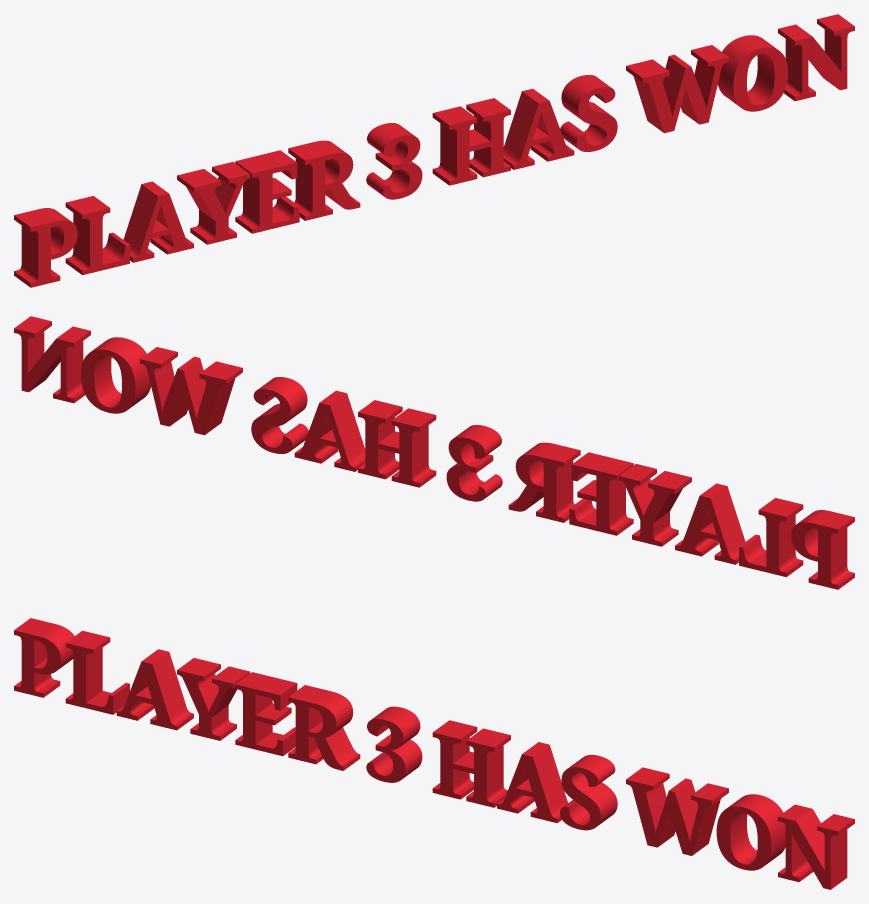
File: tinkerRed.obj
3 renders of one model, top to bottom at view 1: azimuth 30°, elevation 25°; view 2: azimuth 150°, elevation 25°; view 3: azimuth 330°, elevation 25°, orthographic.
Visible parts, largest first — view 1: obj_0; view 2: obj_0; view 3: obj_0.
Part boxes in pixels (x1,y1,x2,y2): obj_0: (14,14,854,287); obj_0: (14,316,854,589); obj_0: (14,618,854,889).
Bounding box in the file's own units: 283 × 20.4 × 10.
